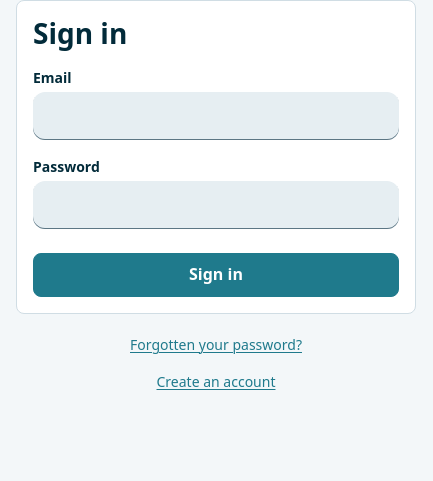
Test: SignInPage in the narrow form card › renders a request failure through InlineAlert (criterion 2)
The width and height of the screenshot is (433, 481).
Step 1. Type "fan@example.test" into the field labelled "Email" → [216, 116], box 33,92 -> 399,140
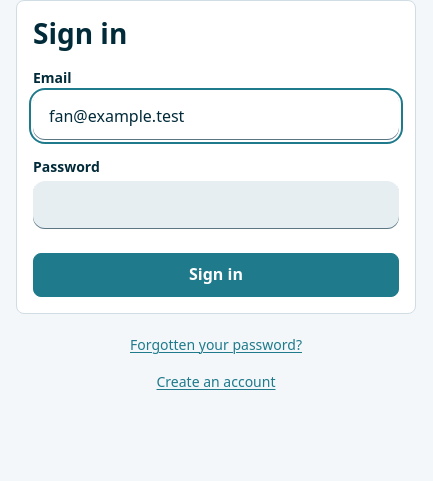
Step 2. Type "Correct-Horse-Battery-1" into the password field labelled "Password" → [216, 205], box 33,181 -> 399,229
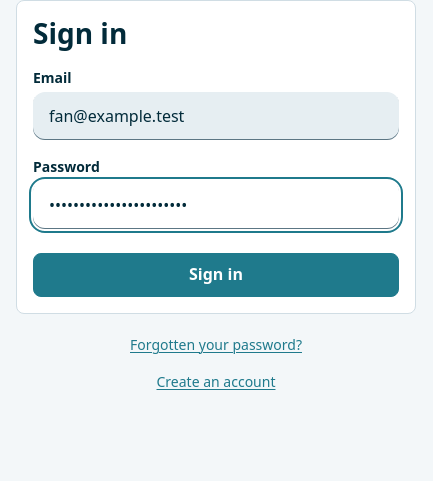
Step 3. Click the button "Sign in" → [216, 275], box 33,253 -> 399,297
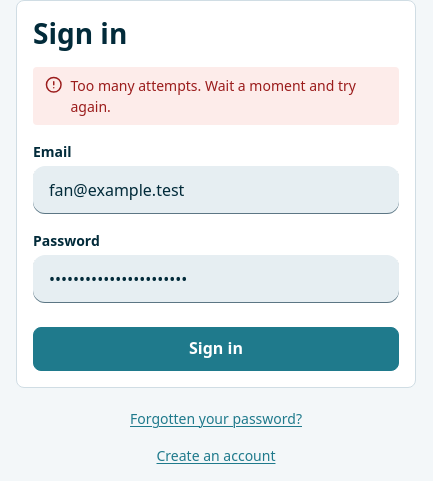
Check: the message reads "Too many attempts. Wait a moment and try again.", box 70,76 -> 356,116
